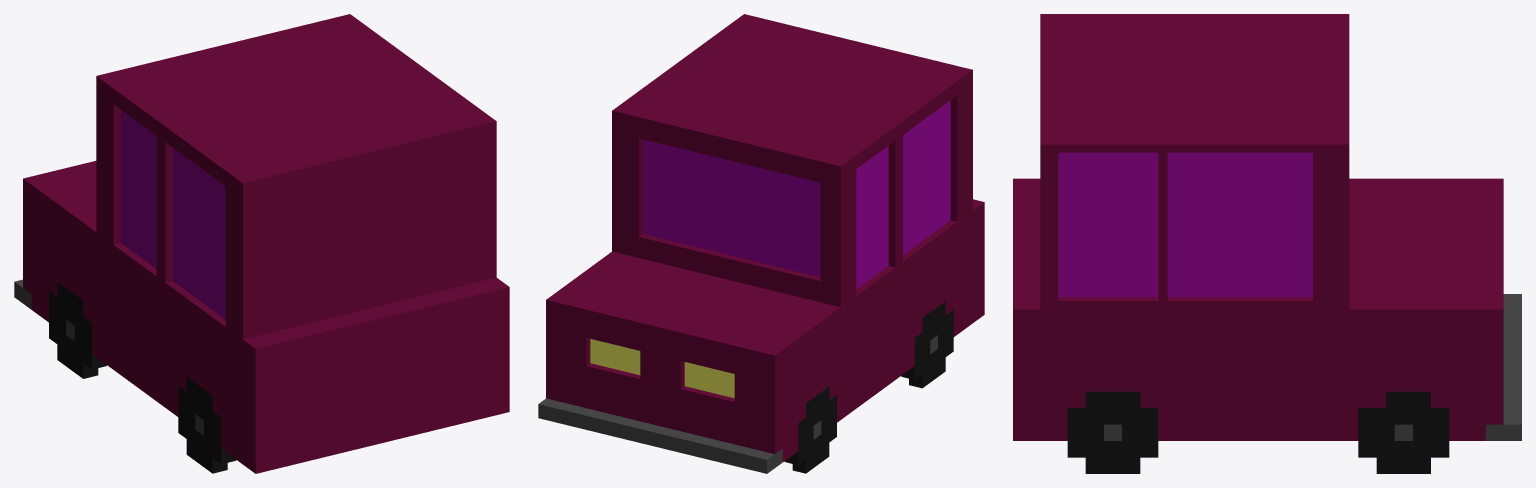
Rendered from Auto1.obj.
The picture shows the model from 3 angles, left to right: view 1: azimuth 30°, elevation 25°; view 2: azimuth 150°, elevation 25°; view 3: azimuth 270°, elevation 25°; orthographic projection. The views are drawn at different scales.
Size of the model in its own units: 3.4 by 4 by 5.6.
Materials: 1 (1 with a texture image).
